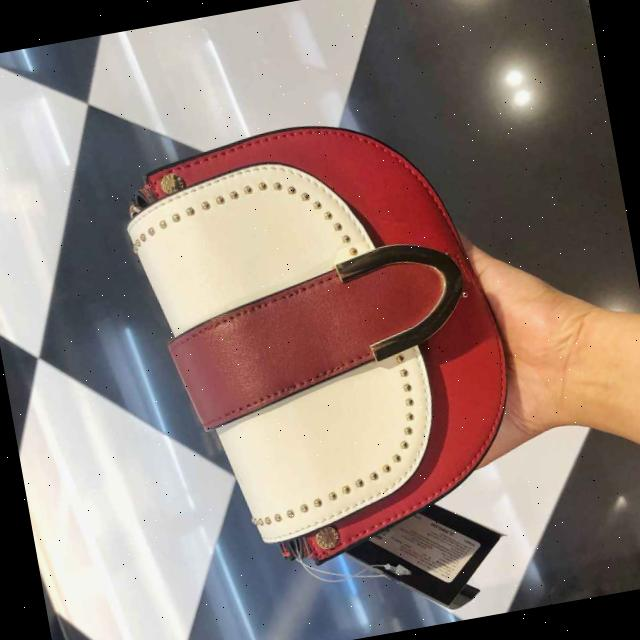Handbag: (114, 94, 538, 586)
